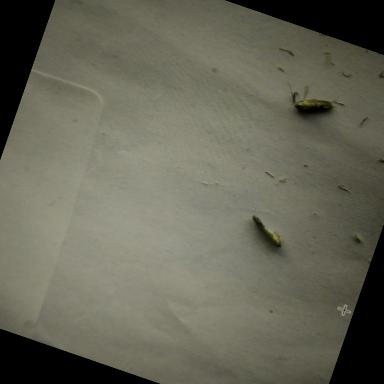pbw: (283, 78, 339, 120), (246, 215, 288, 248)
